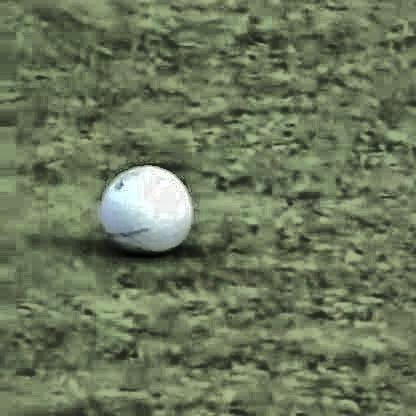golfball: (97, 164, 191, 253)
